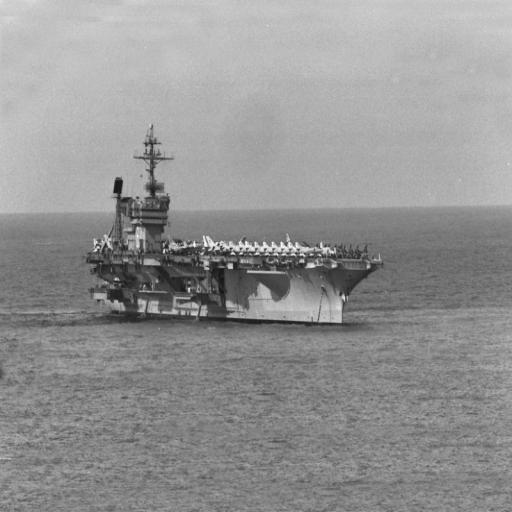Portanaves: (81, 116, 386, 329)
